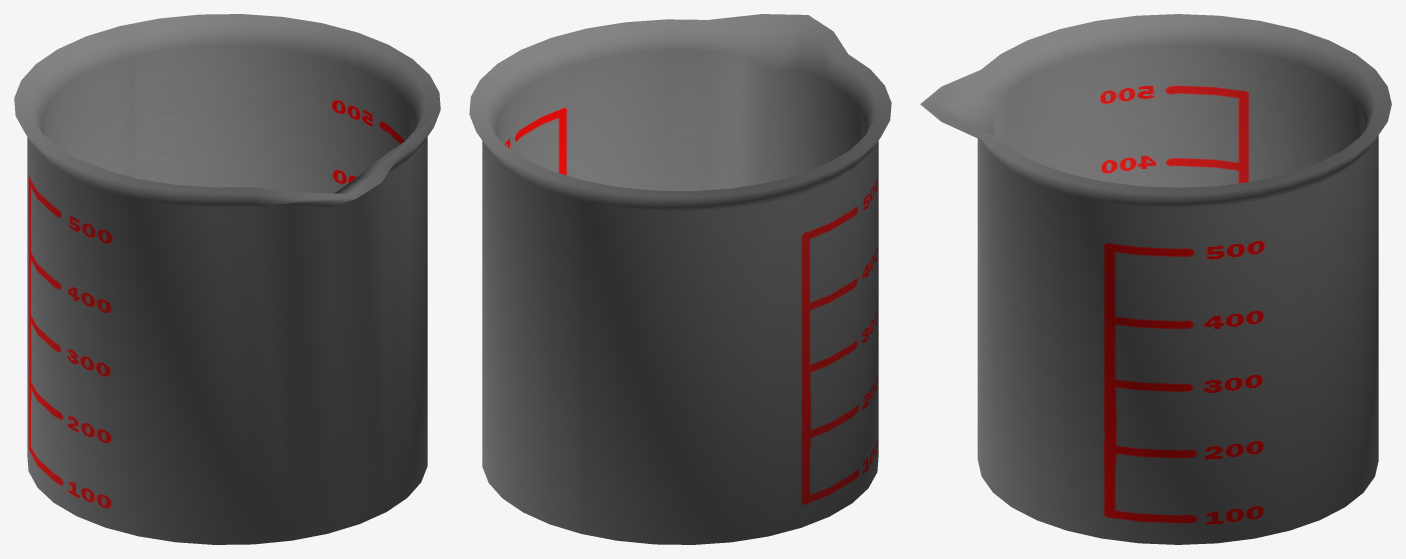
File: BeakerV1.glb
The picture shows the model from 3 angles, left to right: view 1: azimuth 30°, elevation 25°; view 2: azimuth 150°, elevation 25°; view 3: azimuth 270°, elevation 25°; orthographic projection.
Visible parts, largest first — view 1: beaker; view 2: beaker; view 3: beaker.
Part boxes in pixels (<box>): beaker: <box>14,14,440,544</box>; beaker: <box>469,14,891,544</box>; beaker: <box>920,14,1391,544</box>.
Bounding box in the file's own units: 0.1574 × 0.151 × 0.1739.
Materials: 1 (1 with a texture image).
